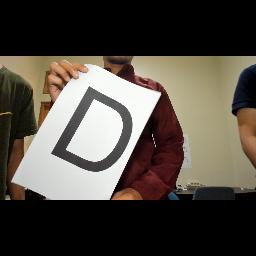d: (50, 84, 138, 172)
